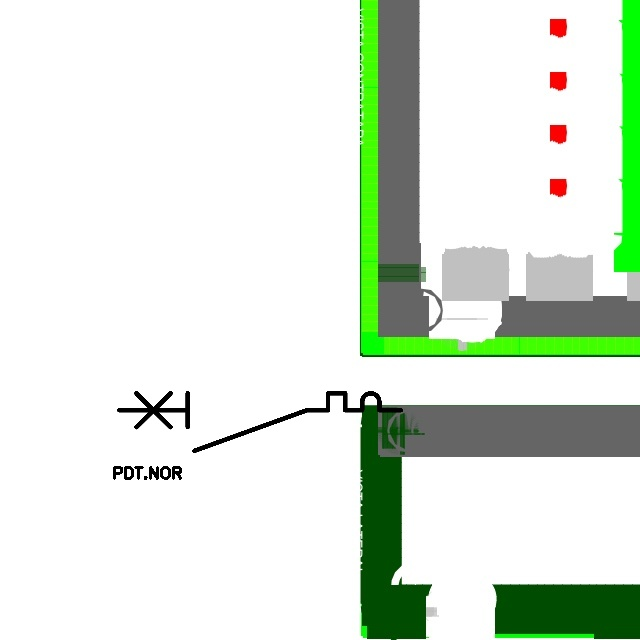interruptor_termomagnetico: (112, 386, 408, 458)
